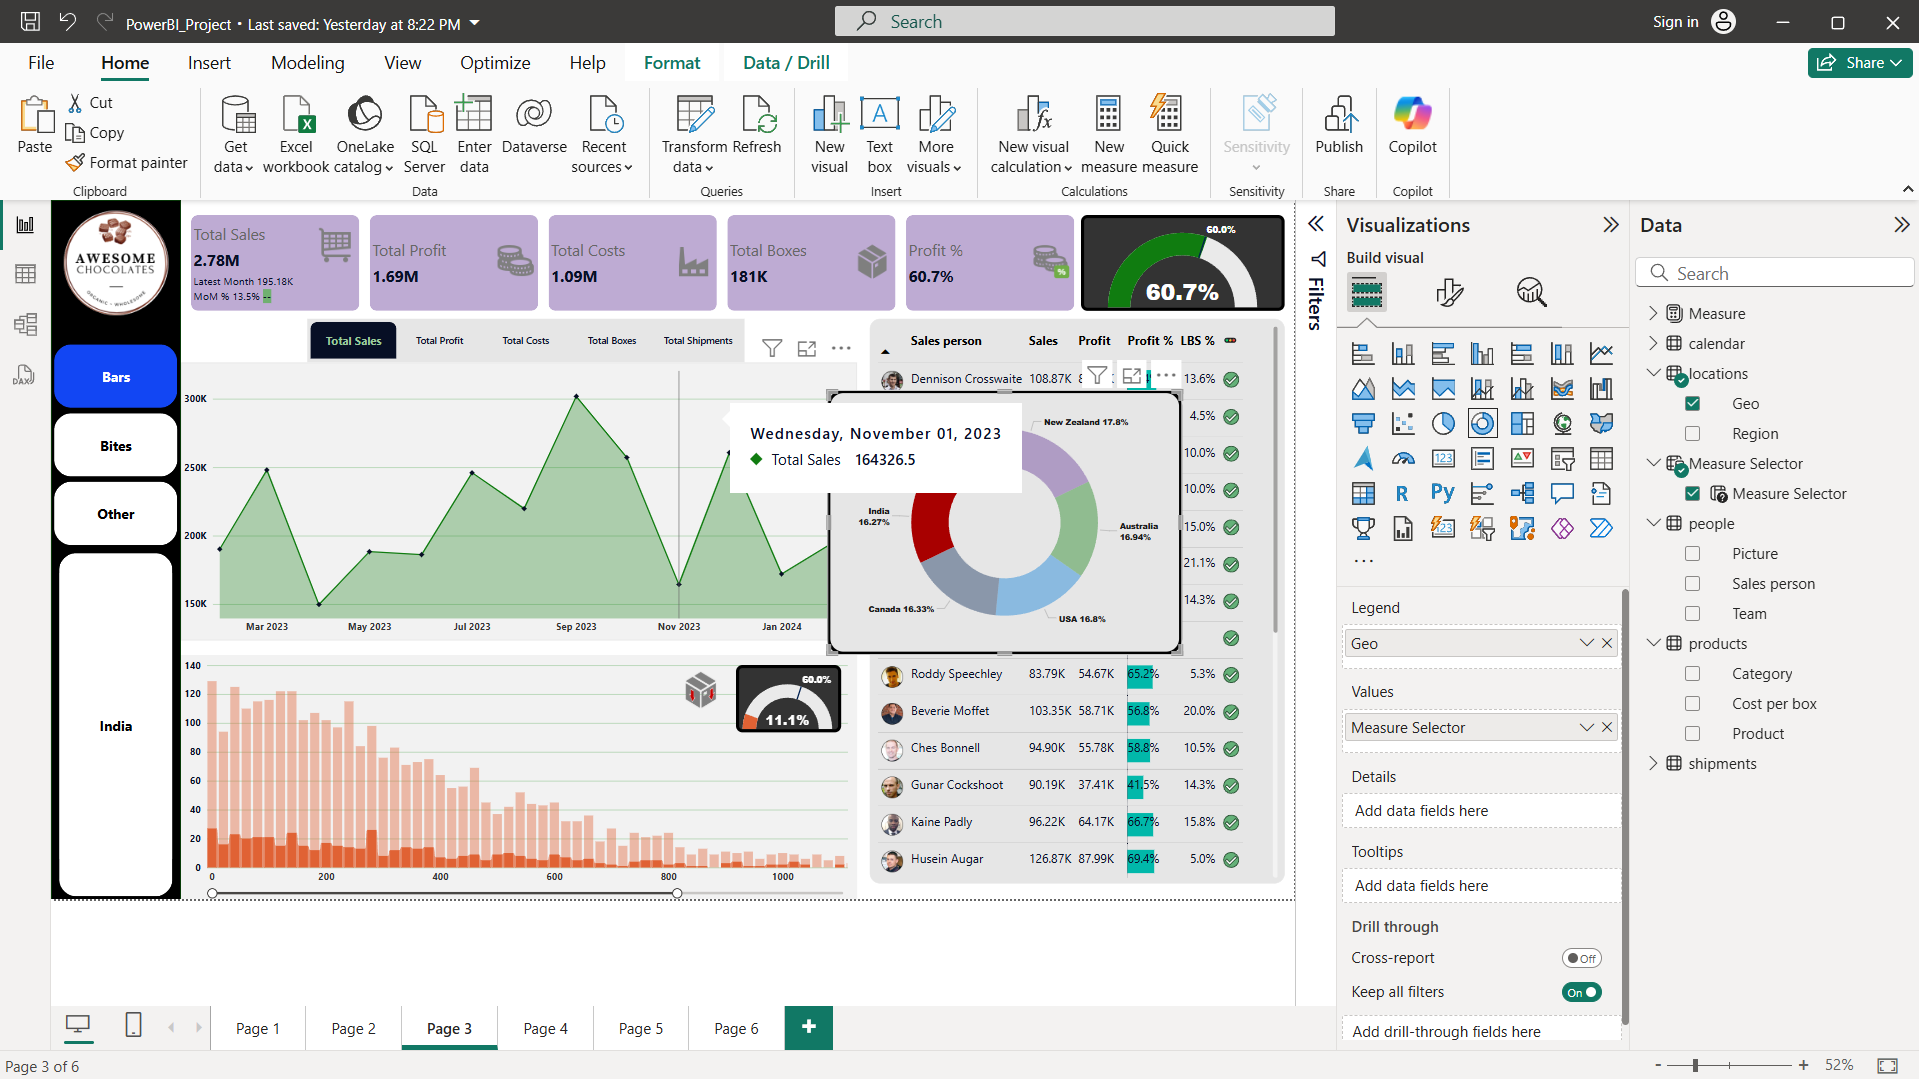

What the dashboard file says about the page in this screenshot:
{"tool":"powerbi","page":{"name":"Page 3","canvas":[1920,1080],"ordinal":2},"visuals":[{"type":"shape","box":[0,0,200.7,1080.8],"z":0},{"type":"advancedSlicerVisual","fields":{"Values":["locations.Geo"]},"box":[7.7,540.4,185.3,540.4],"z":1000},{"type":"advancedSlicerVisual","fields":{"Values":["products.Category"]},"box":[0,218.1,200.7,322.3],"z":2000},{"type":"cardVisual","fields":{"Data":["Measure.Total Sales","Measure.Total Profit","Measure.Total Costs","Measure.Total Boxes","Measure.Profit %"]},"box":[216.2,23.2,1368.4,148.6],"z":3000},{"type":"gauge","fields":{"Y":["Measure.Profit %"]},"box":[1590,24,314,148],"z":4000},{"type":"image","box":[7.7,11.6,185.3,171.8],"z":5000},{"type":"lineChart","title":"Total Shipments By Start of Month","fields":{"Y":["Measure.Total Sales"],"Category":["calendar.Start of Month"]},"box":[200.7,250.9,1044.2,428.5],"z":6000},{"type":"advancedSlicerVisual","fields":{"Values":["Measure Selector.Measure Selector"]},"box":[395.7,183.4,675.5,67.6],"z":7000},{"type":"columnChart","title":"Shipments Analysis","fields":{"Category":["shipments.Boxes (bins)"],"Y":["Measure.Total Shipments"]},"box":[200.7,702.5,1044.2,378.3],"z":8000},{"type":"gauge","fields":{"Y":["Measure.LBS %"]},"box":[1057.7,718,162.1,104.2],"z":9000},{"type":"image","box":[959.2,718,88.8,77.2],"z":10000},{"type":"tableEx","fields":{"Values":["people.Picture","people.Sales person","Measure.Total Sales","Measure.Total Profit","Measure.Profit %","Measure.LBS %","Measure.Profit Target Indicator"]},"box":[1264.2,183.4,640.8,872.4],"z":11000}]}

Visuals, with their boxes on the page's 1920x1080 design canvas (x1, y1, x2, y2). These are canvas units, not pixel positions in the 1919x1079 screenshot, which may show the page scaled, cropped or inside an application window:
shape: box(0, 0, 201, 1081)
advancedSlicerVisual - locations.Geo: box(8, 540, 193, 1081)
advancedSlicerVisual - products.Category: box(0, 218, 201, 540)
cardVisual - Measure.Total Sales x Measure.Total Profit: box(216, 23, 1585, 172)
gauge - Measure.Profit %: box(1590, 24, 1904, 172)
image: box(8, 12, 193, 183)
"Total Shipments By Start of Month" lineChart: box(201, 251, 1245, 679)
advancedSlicerVisual - Measure Selector.Measure Selector: box(396, 183, 1071, 251)
"Shipments Analysis" columnChart: box(201, 702, 1245, 1081)
gauge - Measure.LBS %: box(1058, 718, 1220, 822)
image: box(959, 718, 1048, 795)
tableEx - people.Picture x people.Sales person: box(1264, 183, 1905, 1056)
